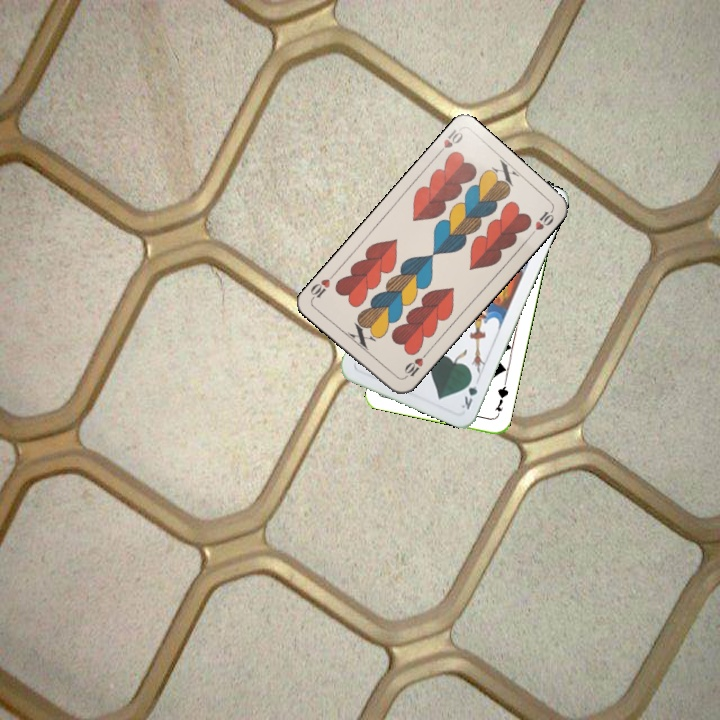G7: (491, 379, 511, 419)
GK: (457, 373, 480, 412)
H10: (432, 125, 465, 159), (399, 348, 430, 382)
